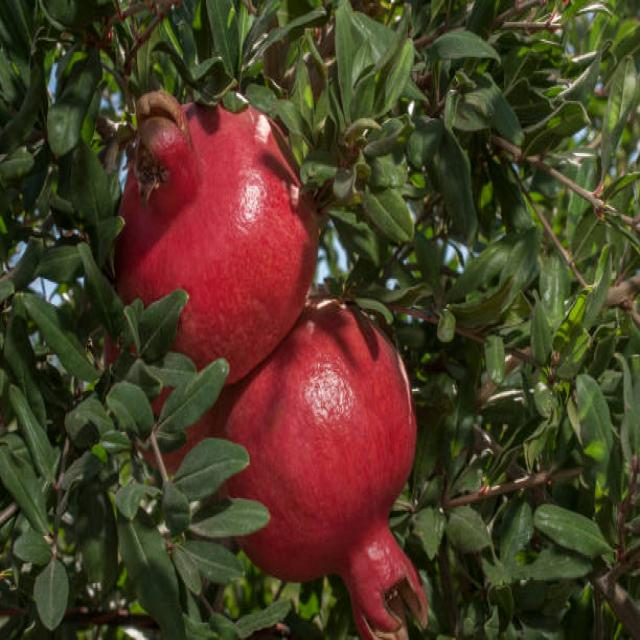Ripe: (225, 308, 432, 640), (116, 77, 322, 389)
